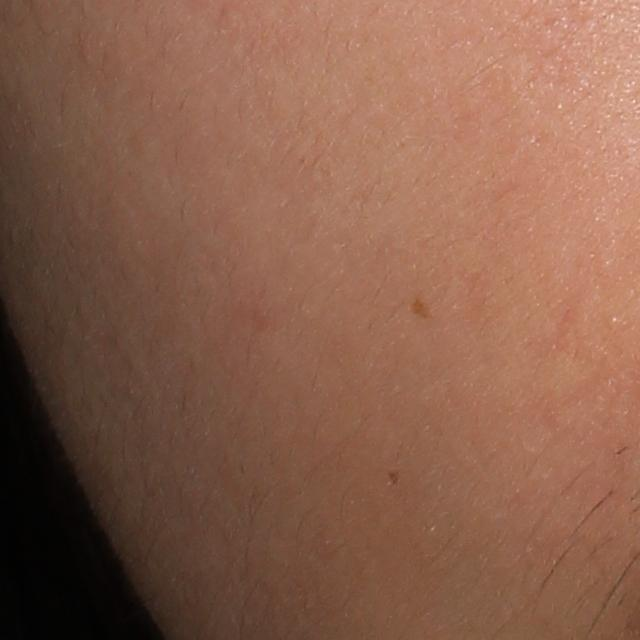melasma: (406, 295, 435, 320)
